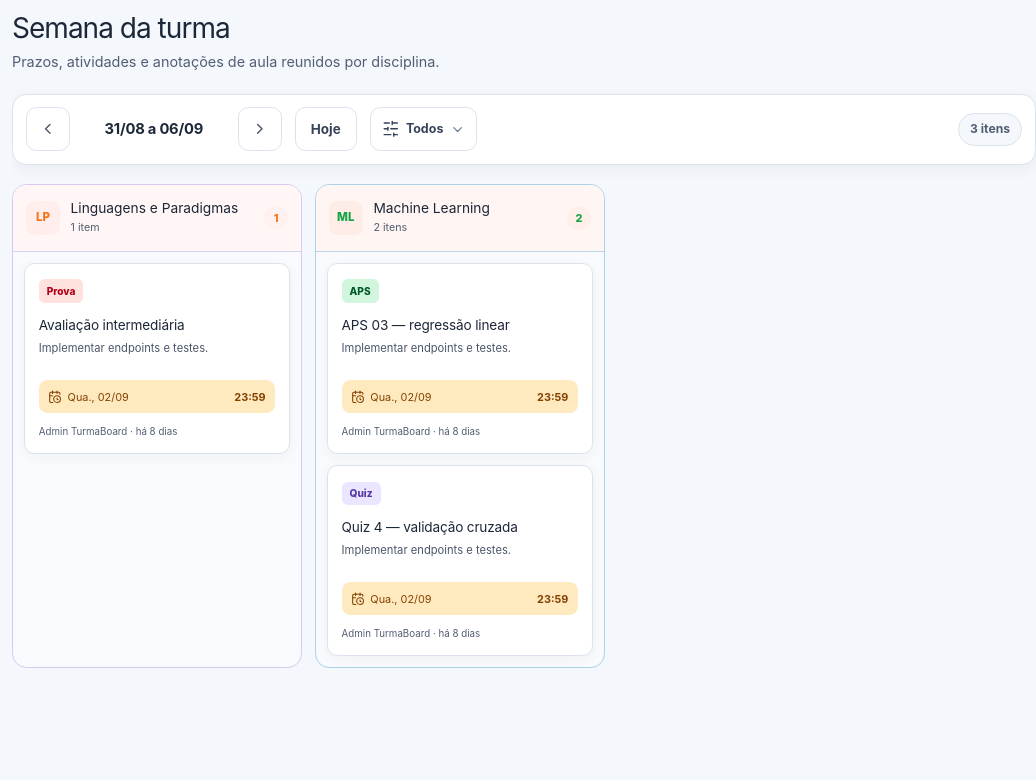
WeekPage › collapses the type filters into a menu on narrow screens
The width and height of the screenshot is (1036, 780).
Expected: the text "31/08 a 06/09" is shown, [105,120,203,138]
Click the button with aria-label "Tipo: Todos". click: [423, 129]
box: [370,107,477,151]
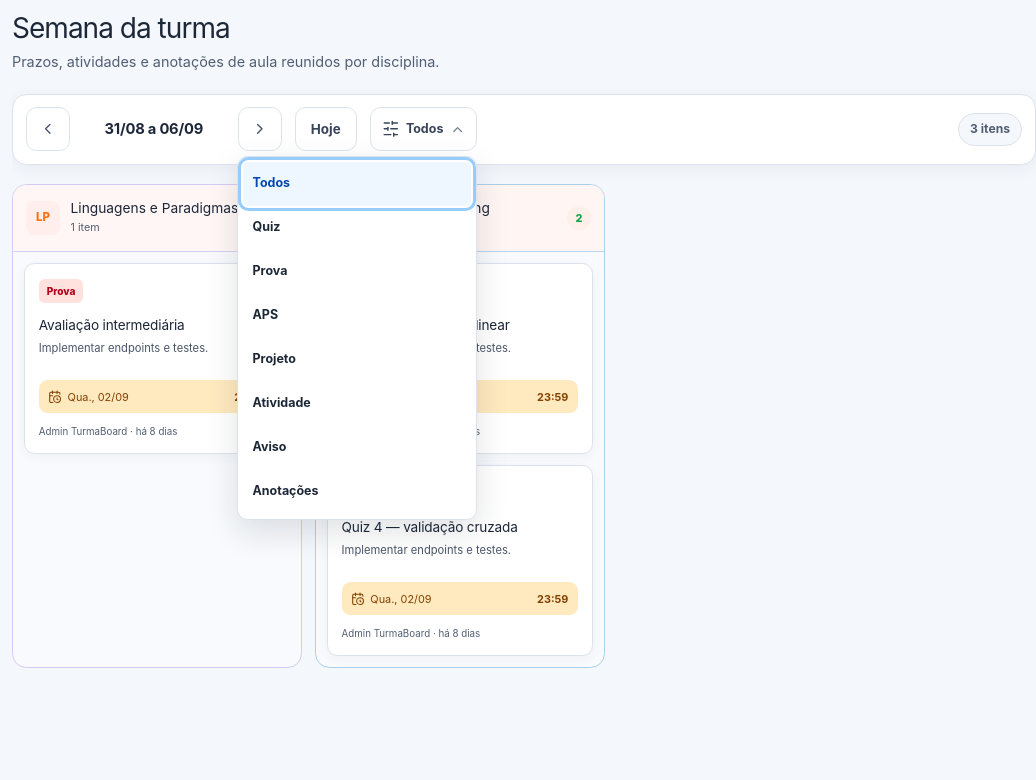
Click the menu item "Prova". click: [357, 272]
box: [243,250,471,294]
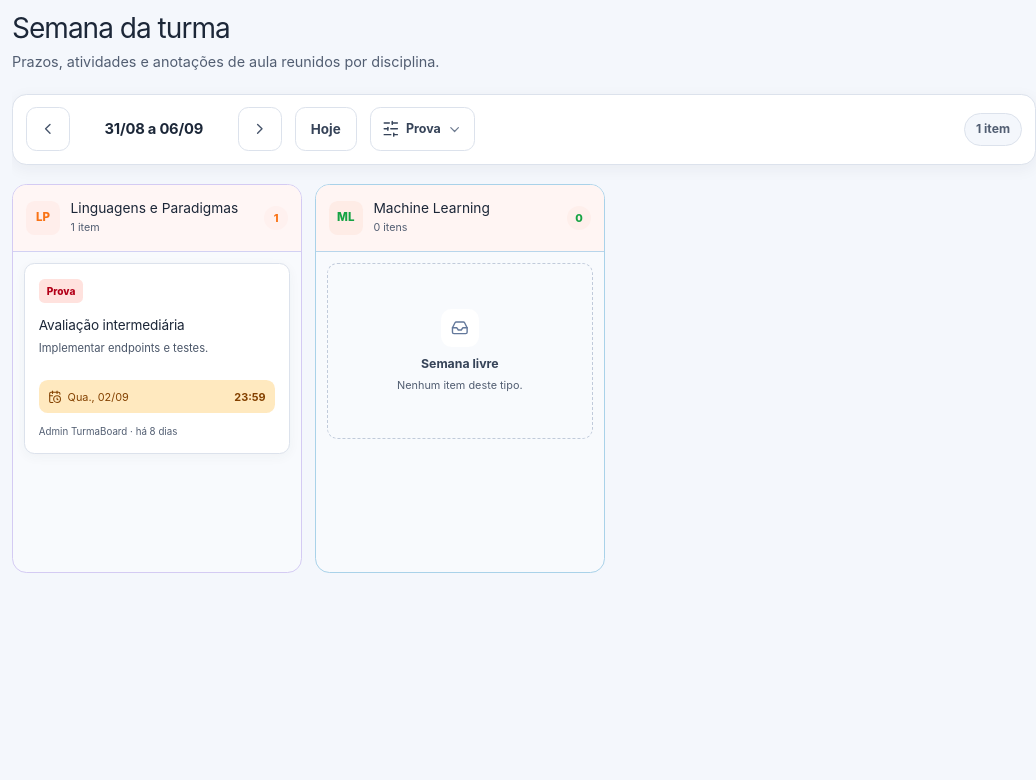
Expected: the heading "Avaliação intermediária" is shown, [39,317,185,333]
Now the heading "Quiz 4 — validação cruzada" is gone
Now the button with aria-label "Tipo: Prova" is shown, box [370,107,474,151]
